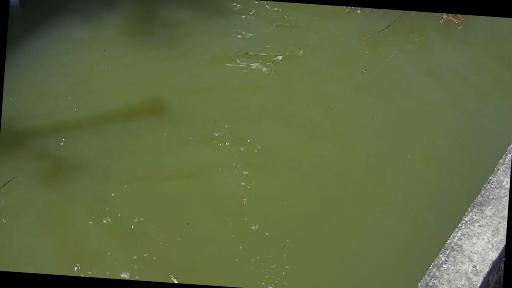twig: (433, 12, 468, 44)
